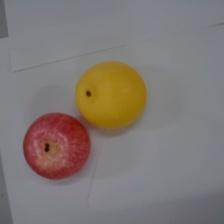red: (22, 111, 91, 180)
yellow: (74, 61, 147, 130)
